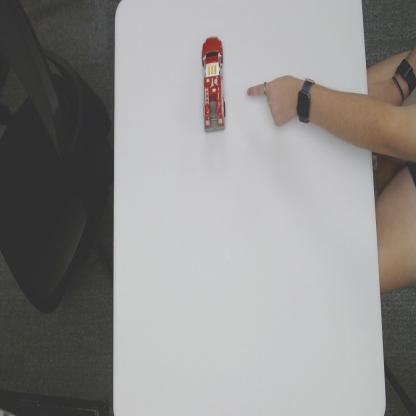Firetruck: (201, 35, 225, 134)
Hand: (246, 73, 296, 127)
